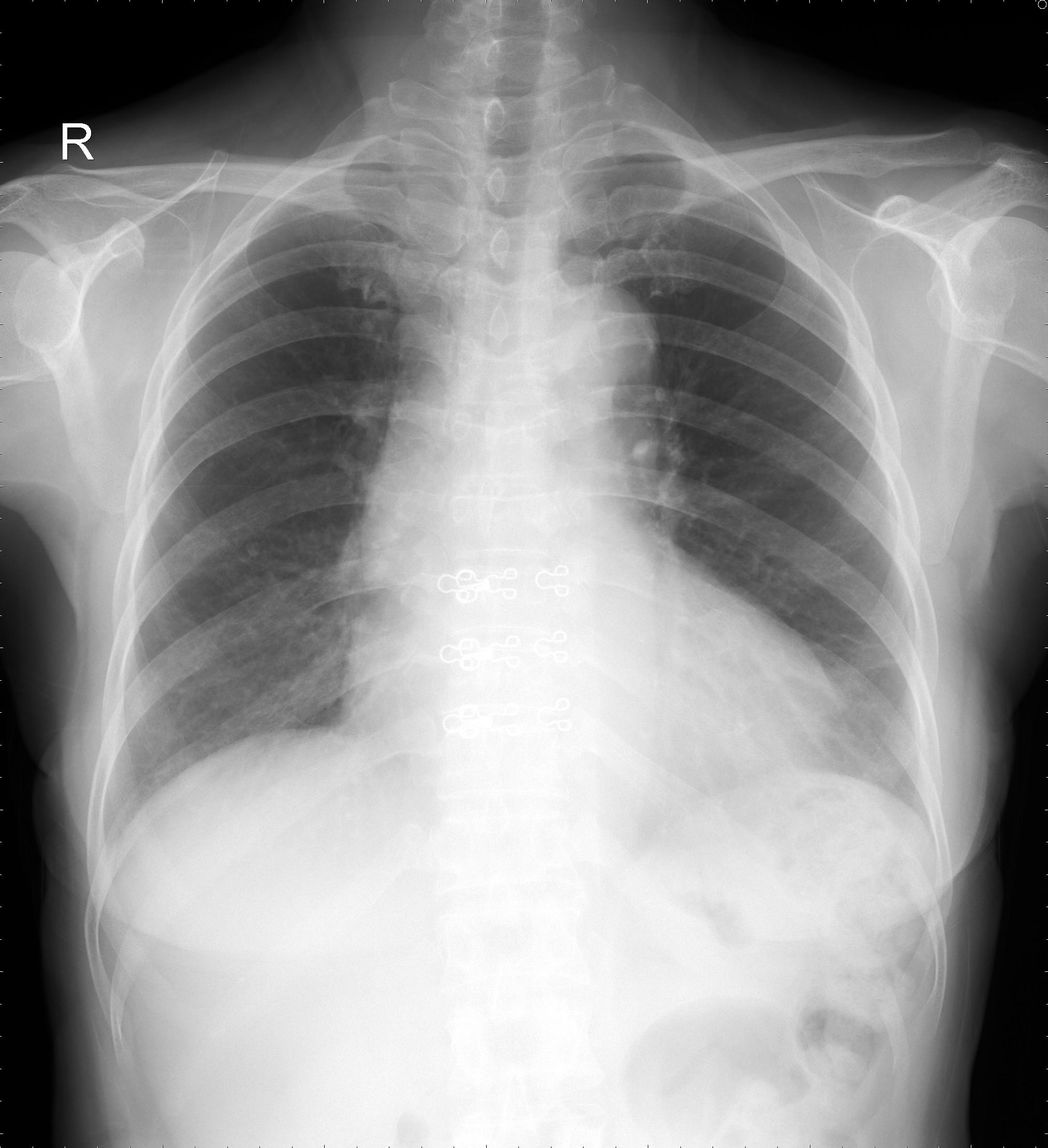Aortic enlargement: (512, 278, 659, 420)
Cardiomegaly: (331, 614, 851, 790)
